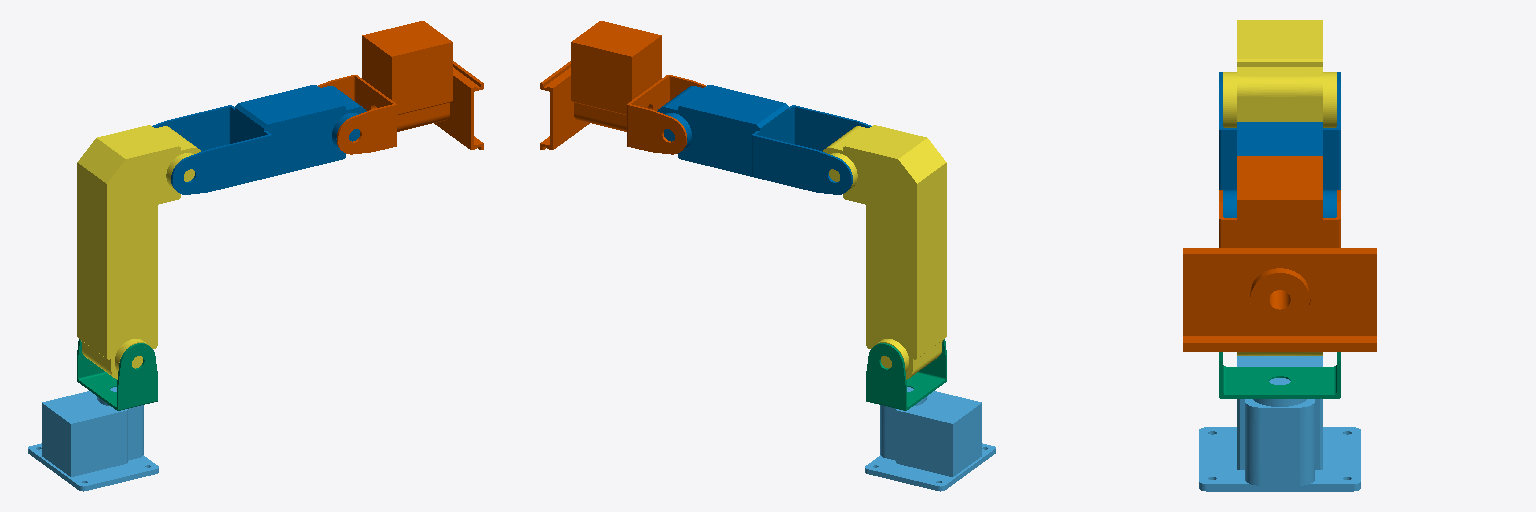
URDF robot description (phantomx_pincher_arm):
<?xml version="1.0" ?>

<!-- Simplified URDF for PhantomX Pincher Arm MK3 and IKFast-->

<robot name="phantomx_pincher_arm">
  <link name="base_link"/>

  <joint name="arm_base_joint" type="fixed">
    <origin rpy="0 0 0" xyz="0 0 0.020"/>
    <parent link="base_link"/>
    <child link="arm_base_link"/>
  </joint>
  <link name="arm_base_link">
    <visual>
      <origin rpy="0 0 0" xyz="0 0 0"/>
      <geometry>
        <mesh filename="package://phantomx_pincher_arm_description/meshes/PincherBase.stl" scale="1.0 1.0 1.0"/>
      </geometry>
    </visual>
    <collision>
      <origin rpy="0 0 0" xyz="0 0 0"/>
      <geometry>
        <mesh filename="package://phantomx_pincher_arm_description/meshes/PincherBase.stl" scale="1.0 1.0 1.0"/>
      </geometry>
    </collision>
  </link>
  
  <joint name="arm_shoulder_pan_joint" type="revolute">
    <origin rpy="0 0 0" xyz="0 0 0.020"/>
    <axis xyz="0 0 1"/>
    <limit effort="6" lower="-2.617" upper="2.617" velocity="1.571"/>
    <dynamics friction="0.13"/>
    <parent link="arm_base_link"/>
    <child link="arm_shoulder_pan_link"/>
  </joint>
  <link name="arm_shoulder_pan_link">
    <visual>
      <origin rpy="0 0 0" xyz="0 0 0"/>
      <geometry>
        <mesh filename="package://phantomx_pincher_arm_description/meshes/F2Bracket.stl" scale="1.0 1.0 1.0"/>
      </geometry>
    </visual>
    <collision>
      <origin rpy="0 0 0" xyz="0 0 0"/>
      <geometry>
        <mesh filename="package://phantomx_pincher_arm_description/meshes/F2Bracket.stl" scale="1.0 1.0 1.0"/>
      </geometry>
    </collision>
  </link>
 
  <joint name="arm_bicep_joint" type="revolute">
    <origin rpy="0 0 0" xyz="0 0 0.027"/>
    <axis xyz="0 1 0"/>
    <limit effort="6" lower="-2.3" upper="2.3" velocity="1.571"/>
    <dynamics friction="0.13"/>
    <parent link="arm_shoulder_pan_link"/>
    <child link="arm_bicep_link"/>
  </joint>
  <link name="arm_bicep_link">
    <visual>
      <origin rpy="0 0 0" xyz=" 0 0 0 "/>
      <geometry>
        <mesh filename="package://phantomx_pincher_arm_description/meshes/PincherBicep.stl" scale="1.0 1.0 1.0"/>
      </geometry>
    </visual>
    <collision>
      <origin rpy="0 0 0" xyz="0.0 0.0 0.0"/>
      <geometry>
        <mesh filename="package://phantomx_pincher_arm_description/meshes/PincherBicep.stl" scale="1.0 1.0 1.0"/>
      </geometry>
    </collision>
  </link>
  
  <joint name="arm_forearm_joint" type="revolute">
    <origin rpy="0 0 0" xyz="0.0325 0 0.104"/>
    <axis xyz="0 -1 0"/>
    <limit effort="6" lower="-2.42" upper="2.38" velocity="1.571"/>
    <dynamics friction="0.13"/>
    <parent link="arm_bicep_link"/>
    <child link="arm_forearm_link"/>
  </joint>
  <link name="arm_forearm_link">
    <visual>
      <origin rpy="0 0 0" xyz=" 0 0 0 "/>
      <geometry>
        <mesh filename="package://phantomx_pincher_arm_description/meshes/PincherForeArm.stl" scale="1.0 1.0 1.0"/>
      </geometry>
    </visual>
    <collision>
      <origin rpy="0 0 0" xyz="0.0 0.0 0.0"/>
      <geometry>
        <mesh filename="package://phantomx_pincher_arm_description/meshes/PincherForeArm.stl" scale="1.0 1.0 1.0"/>
      </geometry>
    </collision>
  </link>
  
  <joint name="arm_wrist_flex_joint" type="revolute">
    <origin rpy="0 0 0" xyz="0.104 0 0"/>
    <axis xyz="0 -1 0"/>
    <limit effort="6" lower="-1.72" upper="1.68" velocity="1.571"/>
    <dynamics friction="0.13"/>
    <parent link="arm_forearm_link"/>
    <child link="arm_wrist_flex_link"/>
  </joint>
  <link name="arm_wrist_flex_link">
    <visual>
      <origin rpy="0 0 0" xyz=" 0 0 0 "/>
      <geometry>
        <mesh filename="package://phantomx_pincher_arm_description/meshes/PincherWristGripper.stl" scale="1.0 1.0 1.0"/>
      </geometry>
    </visual>
    <collision>
      <origin rpy="0 0 0" xyz="0.0 0.0 0.0"/>
      <geometry>
        <mesh filename="package://phantomx_pincher_arm_description/meshes/PincherWristGripper.stl" scale="1.0 1.0 1.0"/>
      </geometry>
    </collision>
  </link>
  
  <!-- gripper_link -->
  <joint name="gripper_link_joint" type="revolute">
    <origin rpy="0 0 0" xyz="0.110 0 0"/>
    <parent link="arm_wrist_flex_link"/>
    <child link="gripper_link"/>
    <limit effort="6" lower="-3.14" upper="3.14" velocity="1"/>
    <axis xyz="1 0 0"/>
  </joint>
  <link name="gripper_link">
  </link>
</robot>

--- Facts derived from the render (not from the file) ---
Views: 3 orthographic renders of the robot side by side, from view 1: azimuth 30°, elevation 25°; view 2: azimuth 150°, elevation 25°; view 3: azimuth 270°, elevation 25°.
Robot: phantomx_pincher_arm — 7 links, 6 joints (5 revolute, 1 fixed); root link base_link; default pose: every joint at zero.
Visible links, largest first — view 1: arm_bicep_link, arm_forearm_link, arm_wrist_flex_link, arm_base_link, arm_shoulder_pan_link; view 2: arm_bicep_link, arm_forearm_link, arm_wrist_flex_link, arm_base_link, arm_shoulder_pan_link; view 3: arm_wrist_flex_link, arm_base_link, arm_bicep_link, arm_forearm_link, arm_shoulder_pan_link.
Link boxes in pixels (<box>): arm_bicep_link: <box>77,125,200,379</box>; arm_forearm_link: <box>152,85,366,194</box>; arm_wrist_flex_link: <box>318,21,483,154</box>; arm_base_link: <box>28,387,158,491</box>; arm_shoulder_pan_link: <box>77,339,157,410</box>; arm_bicep_link: <box>823,125,946,379</box>; arm_forearm_link: <box>657,85,871,194</box>; arm_wrist_flex_link: <box>540,21,705,154</box>; arm_base_link: <box>865,387,995,491</box>; arm_shoulder_pan_link: <box>866,339,946,410</box>; arm_wrist_flex_link: <box>1183,156,1376,351</box>; arm_base_link: <box>1199,356,1360,491</box>; arm_bicep_link: <box>1223,20,1336,355</box>; arm_forearm_link: <box>1219,72,1340,217</box>; arm_shoulder_pan_link: <box>1219,352,1340,398</box>.
Size in the robot's own frame: 0.2495 by 0.0716 by 0.2085 metres.
5 mesh visuals loaded from 5 distinct referenced files (5 binary STL).